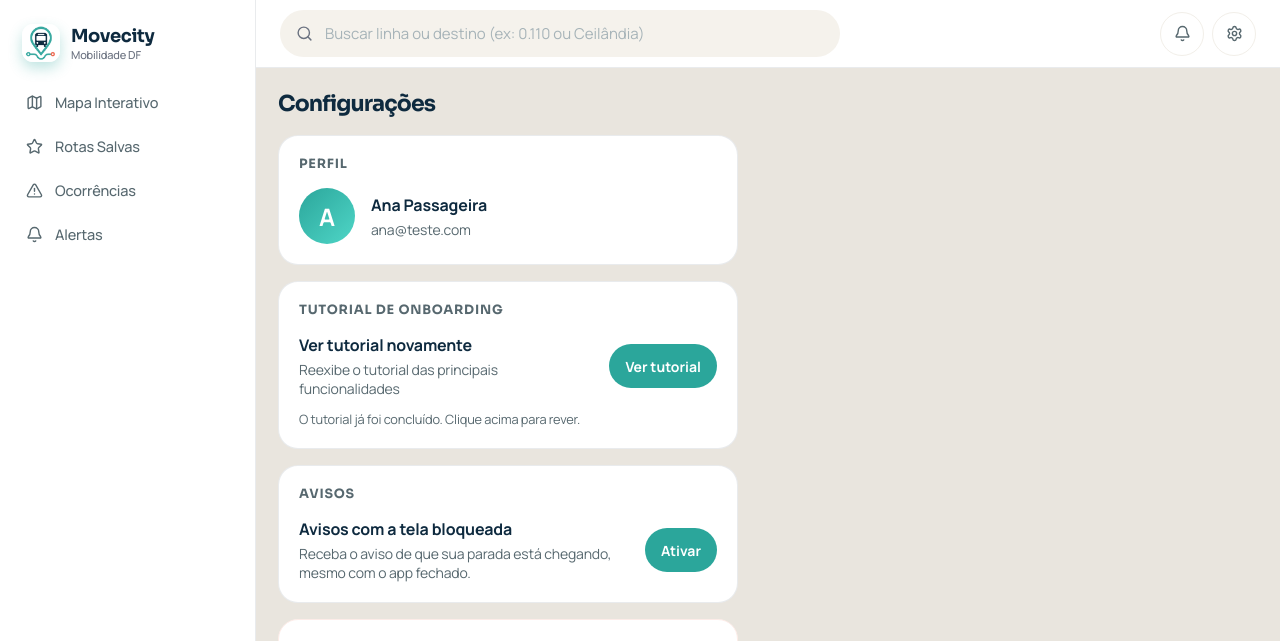
Test: permissão só depois do clique › se a pessoa negar a permissão, a tela passa para o estado negado
Expected: the heading "Avisos com a tela bloqueada" is shown, [299,518,512,540]
Click the button "Ativar" at (681, 550), box [645,528,717,572]
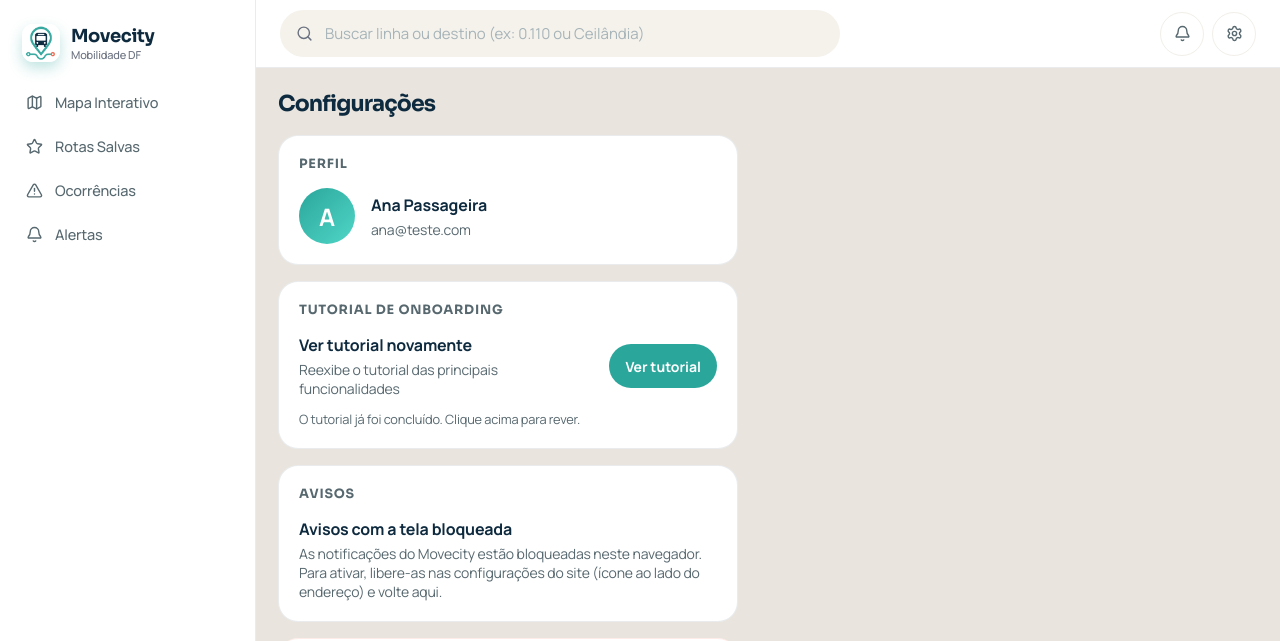
Now the text "bloqueadas neste navegador" is shown, box [299,544,702,601]
